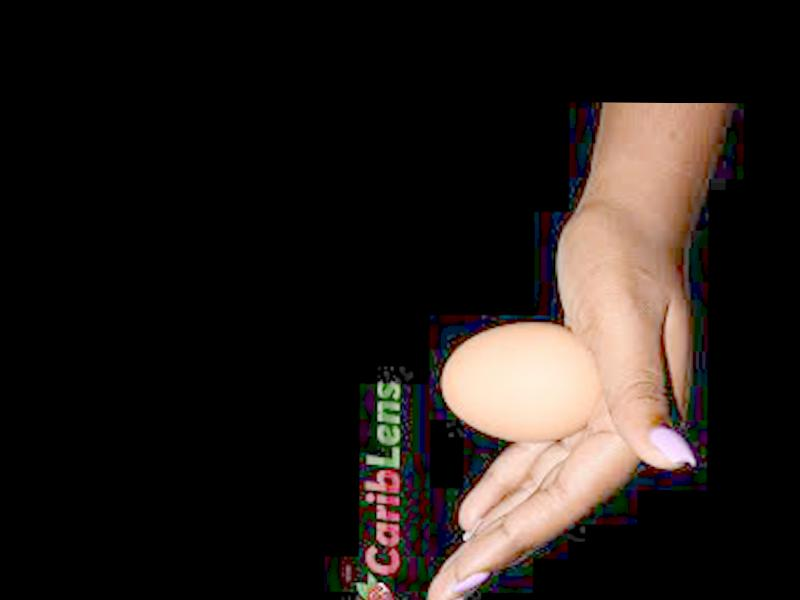Eggs: (440, 321, 599, 443)
